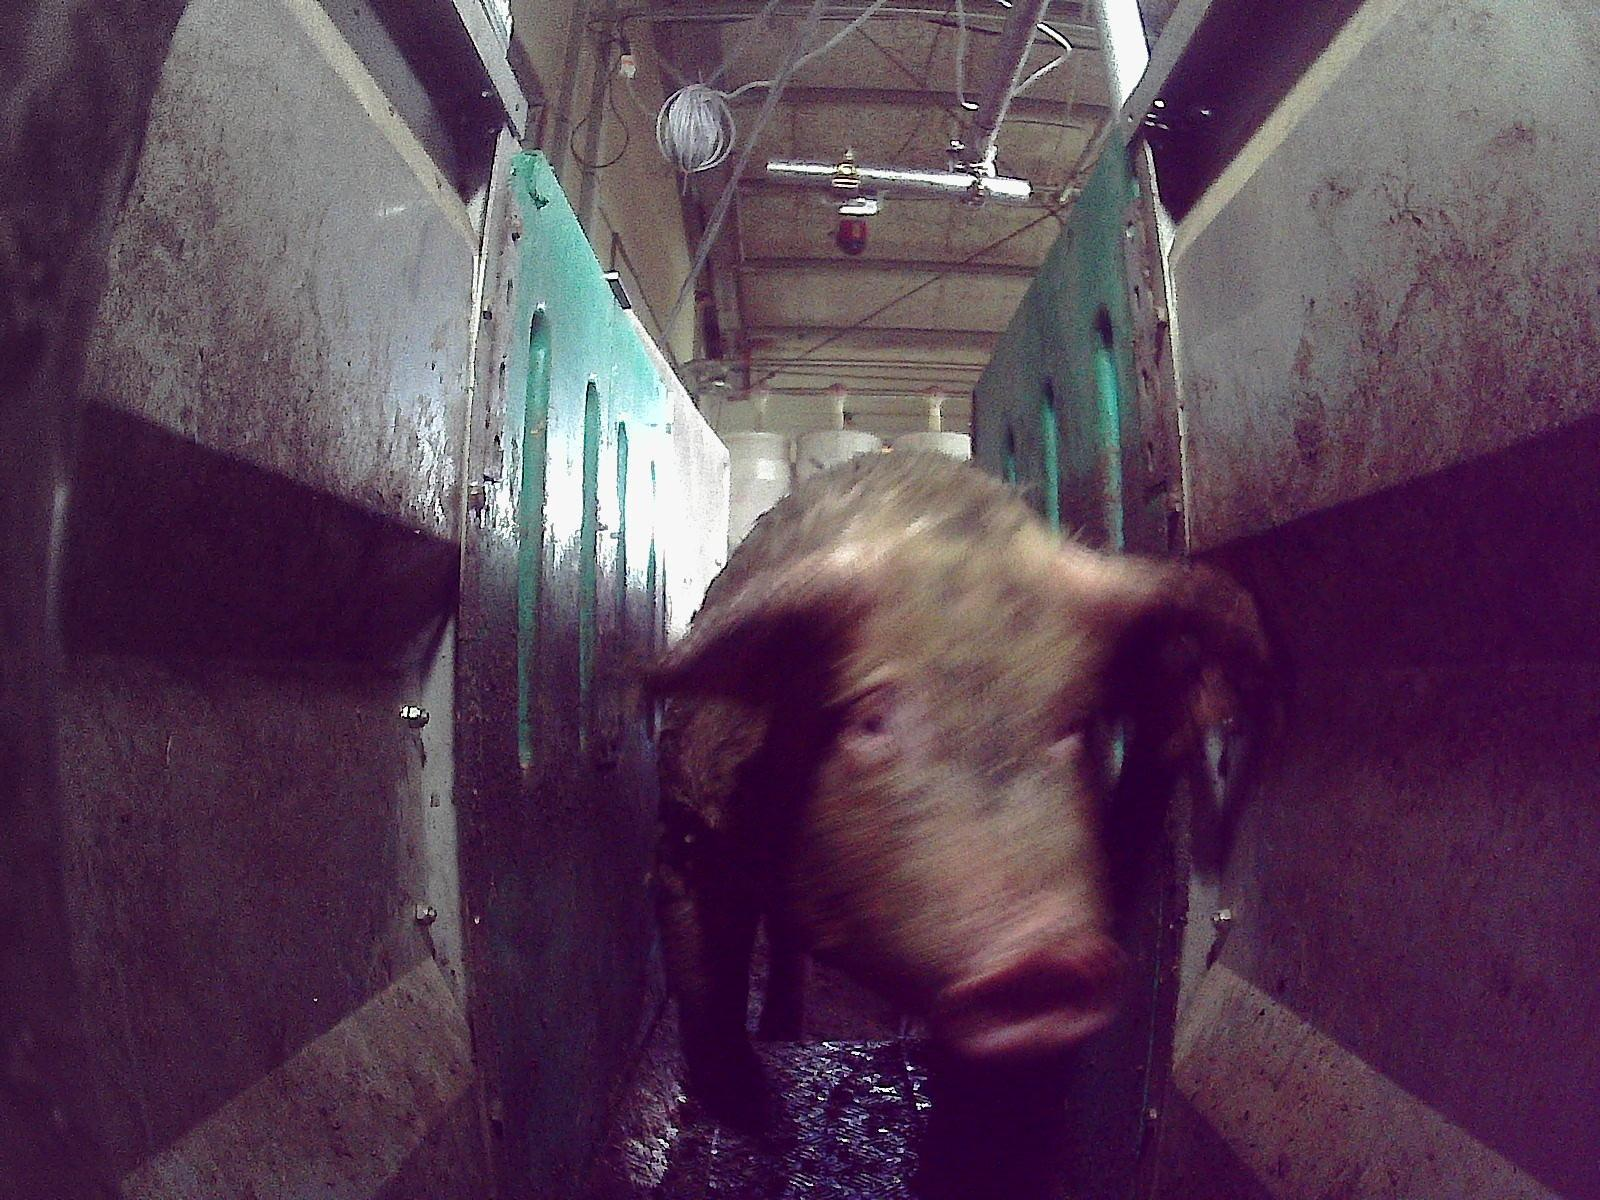Face: (779, 550, 1138, 1059)
